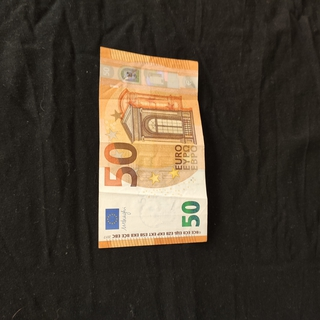50EUROFront: (97, 45, 208, 250)
